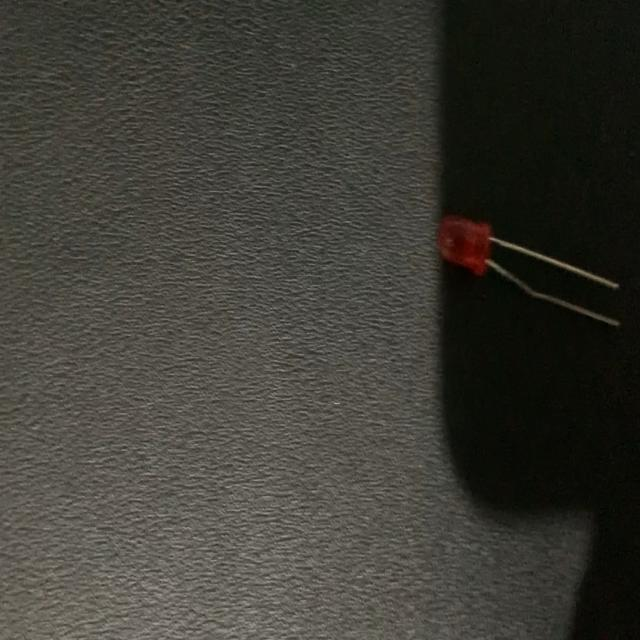LED: (436, 209, 622, 335)
